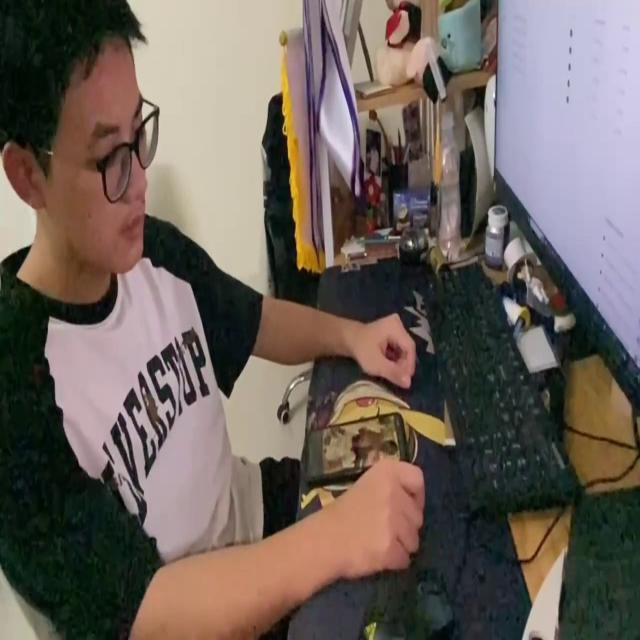laptop: (494, 4, 640, 420)
phone: (303, 412, 412, 483)
student: (0, 2, 428, 638)
